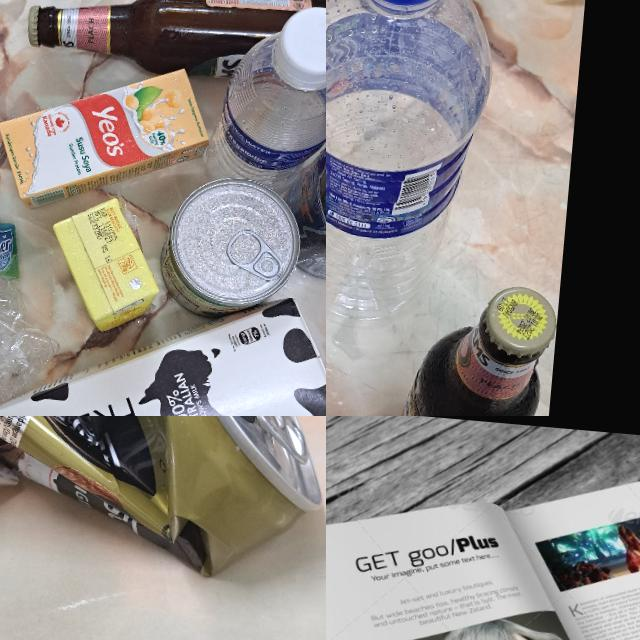aba de lata: (224, 223, 287, 284), (234, 416, 317, 455)
caixinha: (0, 275, 326, 416), (0, 52, 217, 208), (41, 199, 166, 345)
garrafa de vidro: (23, 0, 326, 81), (388, 278, 559, 416), (288, 94, 326, 287)
garrafa plástica: (326, 0, 497, 325), (214, 28, 326, 209), (0, 165, 71, 393)
lata: (0, 416, 326, 587), (169, 177, 301, 320)
papel: (326, 430, 640, 640)
tampa plástica: (279, 3, 326, 88)
